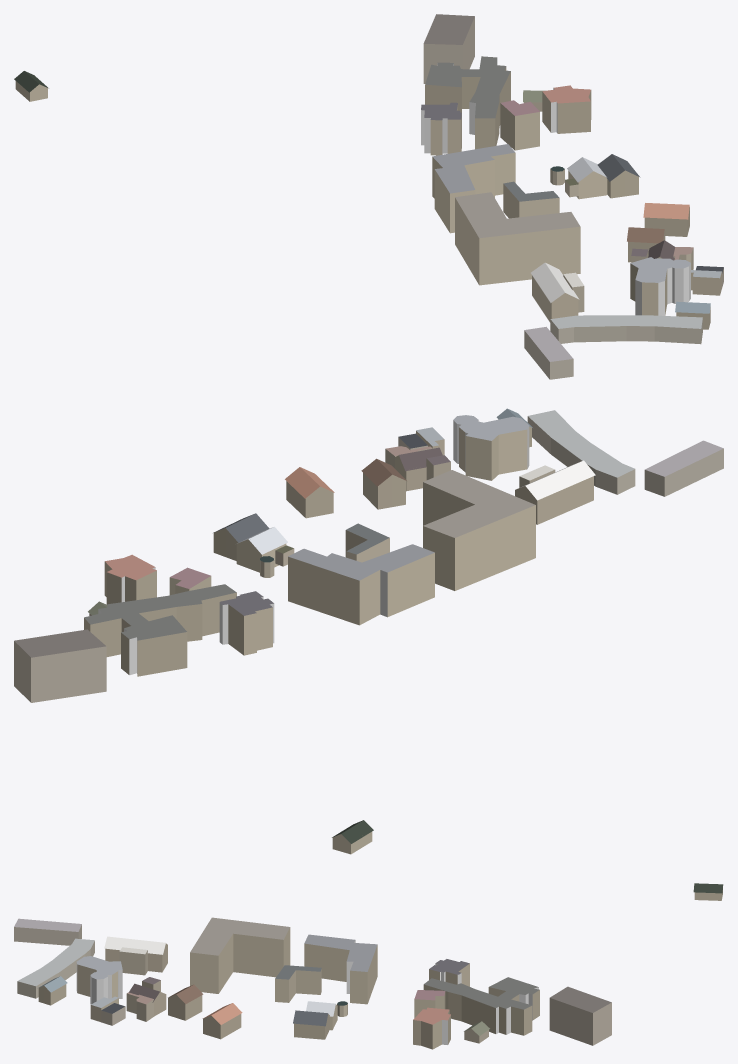
The picture shows the model from 3 angles, top to bottom: view 1: azimuth 30°, elevation 25°; view 2: azimuth 150°, elevation 25°; view 3: azimuth 270°, elevation 25°; orthographic projection. The views are drawn at different scales.
Parts seen in each view (by area): view 1: tuile; view 2: tuile; view 3: tuile.
Part boxes in pixels (left/top/right/bottom): tuile: left=14, top=14, right=723, bottom=379; tuile: left=14, top=408, right=723, bottom=854; tuile: left=14, top=883, right=723, bottom=1049.
Size of the model in its own units: 139 by 15.7 by 263.
